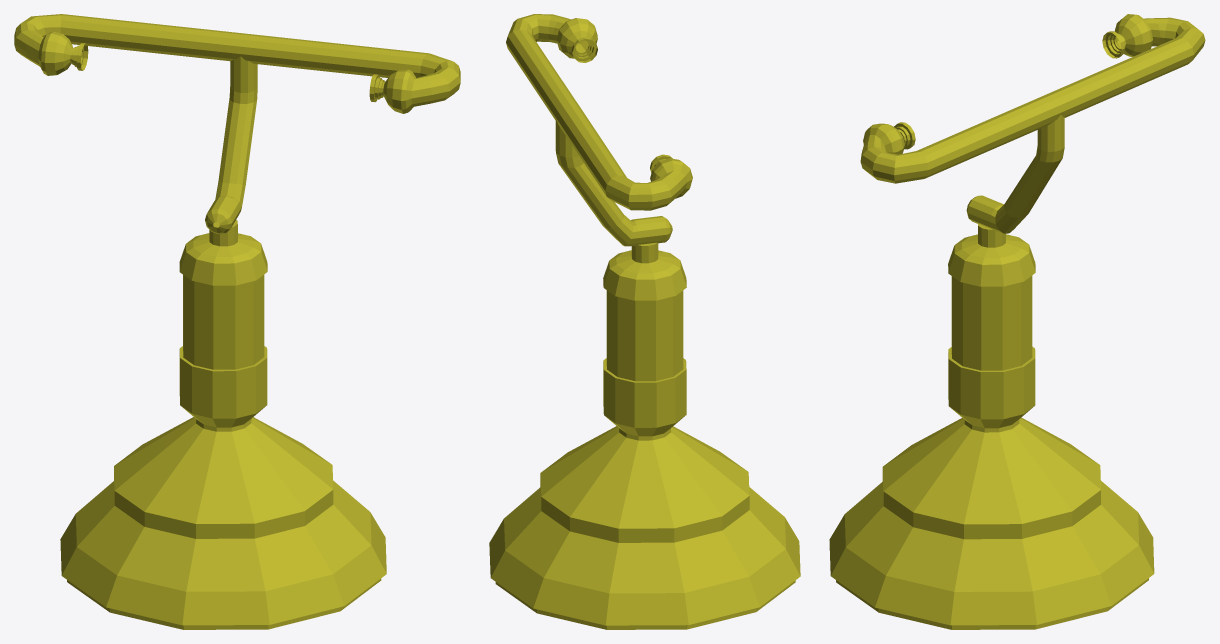
Rendered from LambapraBase.fbx.
3 renders of one model, left to right at view 1: azimuth 30°, elevation 25°; view 2: azimuth 150°, elevation 25°; view 3: azimuth 270°, elevation 25°, orthographic. The views are drawn at different scales.
Parts seen in each view (by area): view 1: BaseLamp; view 2: BaseLamp; view 3: BaseLamp.
Part boxes in pixels (<box>): BaseLamp: <box>14,14,460,629</box>; BaseLamp: <box>489,14,800,629</box>; BaseLamp: <box>829,14,1205,629</box>.
Size of the model in its own units: 213 by 310 by 211.
